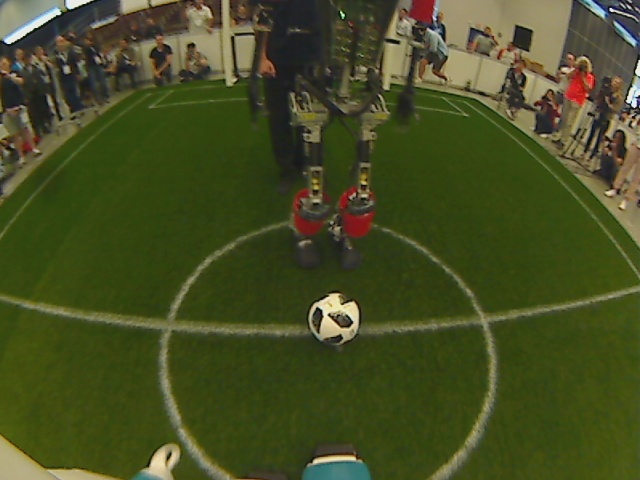ball: (304, 288, 364, 347)
